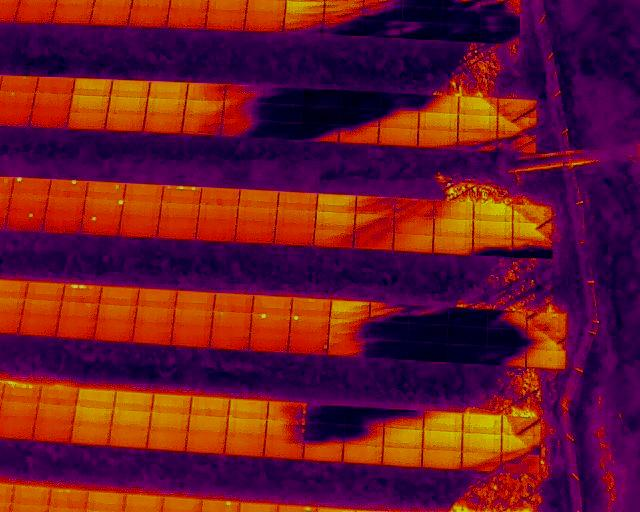Cell: (80, 215, 121, 235), (5, 210, 44, 230), (251, 313, 290, 333), (291, 315, 329, 335), (83, 197, 124, 215), (86, 180, 126, 197), (11, 177, 50, 194), (48, 179, 86, 195), (0, 92, 34, 109)
Cell-Multi: (3, 384, 40, 403), (162, 186, 202, 202)
No-Anomaly: (246, 8, 285, 31), (168, 6, 206, 29), (237, 221, 275, 244), (34, 420, 73, 442), (462, 432, 502, 453), (43, 212, 83, 233), (157, 217, 197, 238), (149, 429, 187, 451), (198, 219, 236, 241), (118, 215, 159, 235), (383, 446, 422, 467), (72, 423, 111, 444), (206, 8, 245, 29), (434, 235, 474, 255), (425, 410, 463, 431), (464, 413, 502, 434), (110, 427, 148, 448), (130, 6, 168, 27), (172, 327, 211, 347), (383, 428, 422, 448), (423, 430, 462, 450), (343, 445, 382, 465), (459, 95, 498, 115), (52, 4, 91, 24), (91, 5, 130, 25), (330, 300, 369, 320), (229, 399, 266, 420), (17, 0, 54, 21), (422, 450, 462, 469), (303, 443, 343, 462), (134, 326, 172, 346), (211, 330, 249, 350), (191, 397, 229, 417), (434, 218, 474, 237), (176, 291, 214, 311), (57, 320, 95, 340), (250, 333, 289, 352), (289, 336, 328, 355), (228, 418, 267, 437), (226, 438, 265, 457), (418, 130, 457, 149), (474, 203, 513, 222), (275, 226, 314, 245), (153, 395, 190, 415), (75, 405, 112, 425), (187, 433, 224, 453), (77, 390, 115, 409), (115, 393, 153, 412), (138, 289, 176, 308), (214, 294, 252, 313), (143, 115, 183, 133), (21, 318, 57, 338), (110, 80, 150, 98), (49, 489, 86, 508), (101, 287, 138, 306), (112, 409, 151, 427), (106, 113, 145, 131), (379, 129, 418, 147), (474, 221, 513, 239), (394, 235, 433, 253), (253, 294, 292, 312), (96, 324, 135, 342), (0, 419, 35, 439), (528, 350, 566, 368), (201, 188, 239, 206), (317, 194, 355, 212), (136, 308, 174, 326), (146, 99, 186, 116), (67, 113, 107, 130), (28, 111, 68, 128), (61, 302, 98, 320), (99, 306, 136, 324), (174, 310, 211, 328), (27, 282, 62, 301), (265, 442, 304, 459), (32, 93, 71, 110), (279, 192, 318, 209), (9, 195, 48, 212), (316, 213, 355, 230), (292, 298, 331, 315), (123, 494, 161, 511), (41, 387, 79, 404), (151, 413, 189, 430), (212, 313, 250, 330), (187, 83, 225, 100), (36, 404, 76, 420), (69, 96, 109, 112), (108, 97, 148, 113), (87, 493, 122, 511), (13, 485, 48, 503), (23, 300, 60, 317), (35, 78, 74, 94), (73, 79, 112, 95), (419, 114, 458, 130), (458, 115, 497, 131), (124, 183, 163, 199), (239, 190, 278, 206), (46, 196, 85, 212), (148, 82, 187, 98), (200, 205, 238, 221), (238, 206, 276, 222), (277, 210, 315, 226), (0, 402, 37, 418), (125, 199, 162, 215), (190, 418, 228, 433), (184, 101, 224, 115), (160, 202, 200, 216), (0, 77, 37, 92), (0, 109, 29, 126)
Shadowing: (328, 336, 368, 358), (329, 318, 369, 340), (527, 311, 567, 332), (497, 132, 536, 153), (285, 12, 324, 33), (315, 227, 354, 248), (369, 302, 408, 323), (368, 338, 408, 358), (384, 409, 424, 429), (266, 421, 306, 441), (182, 115, 222, 135), (408, 323, 447, 343), (448, 345, 486, 365), (346, 406, 384, 426), (346, 425, 384, 445), (434, 201, 474, 220), (487, 310, 527, 329), (307, 404, 346, 423), (502, 435, 541, 454), (503, 416, 542, 435), (267, 402, 306, 421), (305, 424, 344, 443), (409, 304, 448, 323), (448, 308, 487, 327), (395, 198, 433, 217), (355, 230, 393, 249), (325, 15, 363, 34), (407, 342, 447, 360), (486, 347, 526, 365), (363, 2, 403, 20), (260, 122, 300, 140), (339, 127, 379, 145), (514, 205, 554, 223), (474, 239, 514, 257), (441, 24, 481, 42), (368, 321, 408, 339), (502, 454, 539, 473), (448, 327, 487, 345), (527, 332, 566, 350), (403, 4, 442, 22), (395, 216, 434, 234), (363, 19, 402, 37), (302, 89, 341, 107), (222, 120, 263, 137), (513, 224, 554, 241), (513, 240, 554, 257), (482, 8, 520, 26), (403, 22, 441, 40), (341, 90, 379, 108), (487, 329, 527, 346), (419, 96, 459, 113), (498, 98, 538, 115), (299, 125, 339, 142), (462, 452, 501, 469), (480, 27, 519, 44), (380, 94, 419, 111), (223, 102, 262, 119), (301, 108, 340, 125), (340, 109, 379, 126), (380, 111, 419, 128), (458, 132, 497, 149), (442, 7, 481, 24), (356, 197, 394, 214), (356, 214, 394, 231), (263, 88, 301, 105), (498, 115, 538, 131), (262, 105, 301, 121), (225, 85, 263, 101)
Unclassified: (63, 284, 100, 304)
